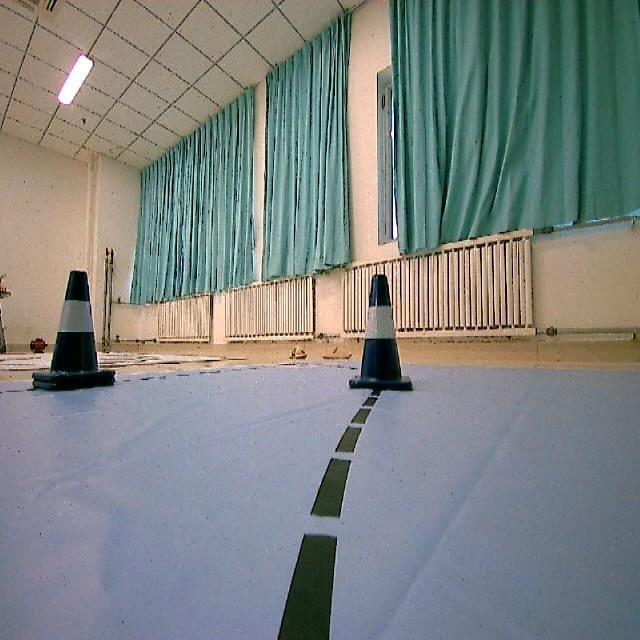obstacle: (28, 260, 112, 398), (342, 274, 412, 404)
